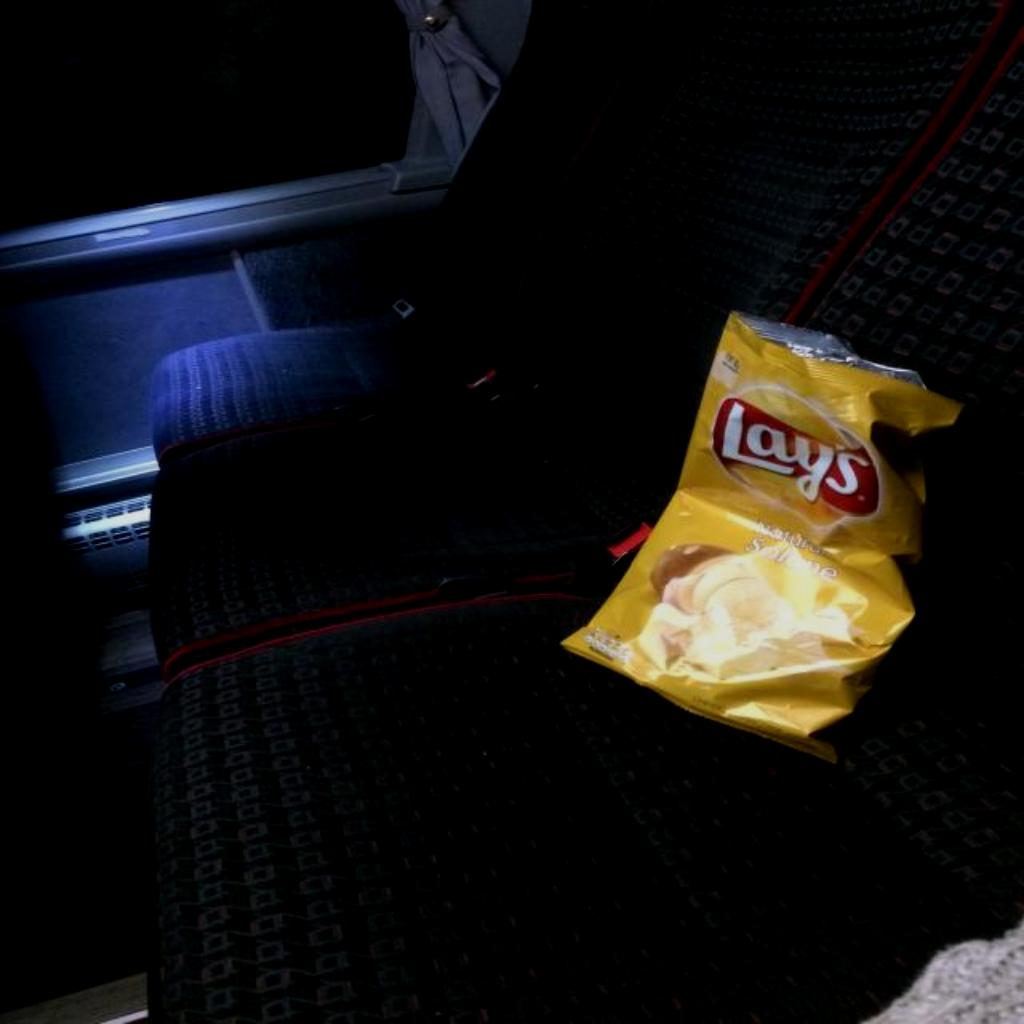garbage: (566, 314, 971, 757)
